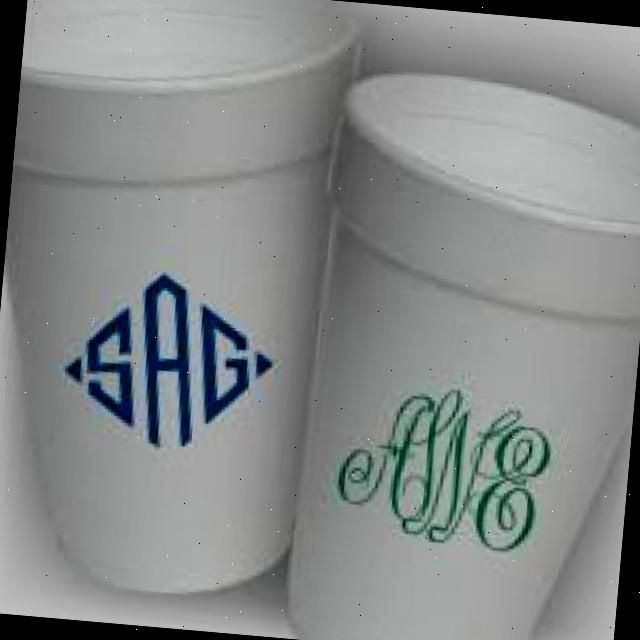trash: (0, 0, 361, 604), (278, 59, 640, 640)
